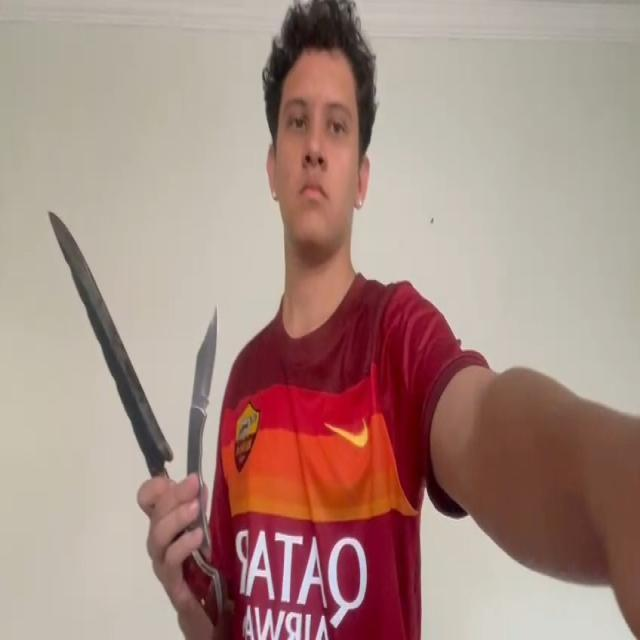knife: (48, 211, 172, 468), (194, 304, 220, 409)
